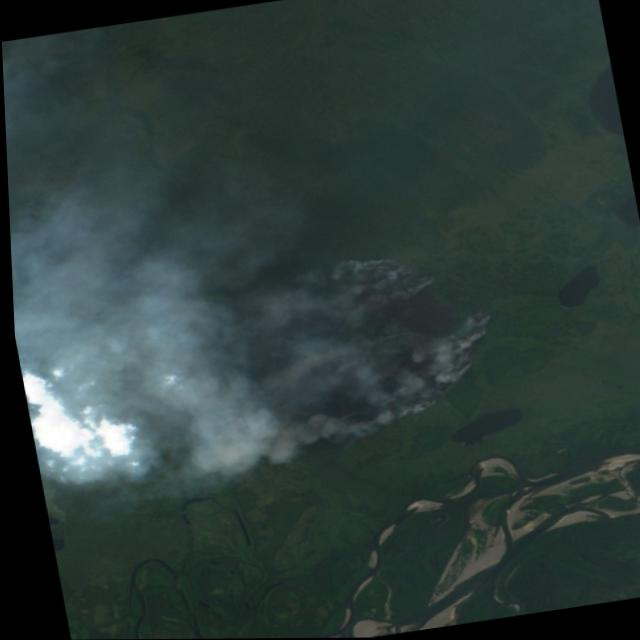fire: (251, 242, 516, 445)
